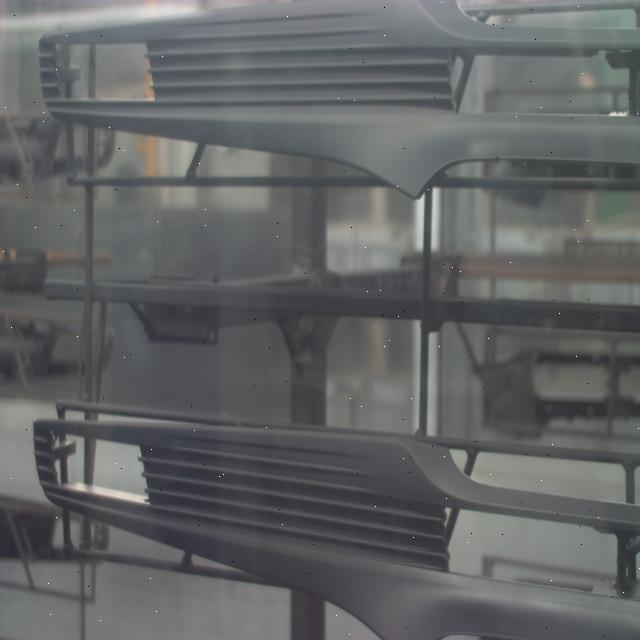Primered: (31, 414, 640, 640), (35, 0, 638, 193)
